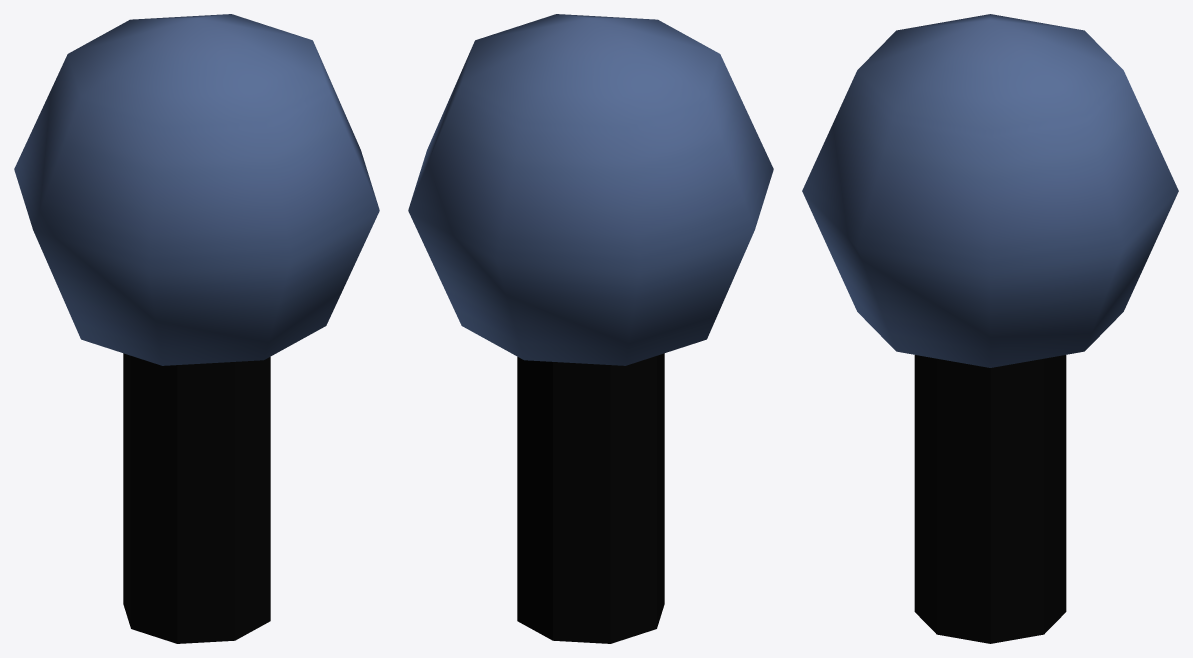
File: LampPole_Short_Blue.fbx
3 views of the same model, side by side, from view 1: azimuth 30°, elevation 25°; view 2: azimuth 150°, elevation 25°; view 3: azimuth 270°, elevation 25° (orthographic).
Visible parts, largest first — view 1: LampPole_Short_Blue; view 2: LampPole_Short_Blue; view 3: LampPole_Short_Blue.
Part boxes in pixels (box(x1,y1,x2,y2)): LampPole_Short_Blue: box(14, 14, 379, 643); LampPole_Short_Blue: box(408, 14, 773, 643); LampPole_Short_Blue: box(802, 14, 1178, 643).
Bounding box in the file's own units: 31.58 × 54.72 × 31.58.
